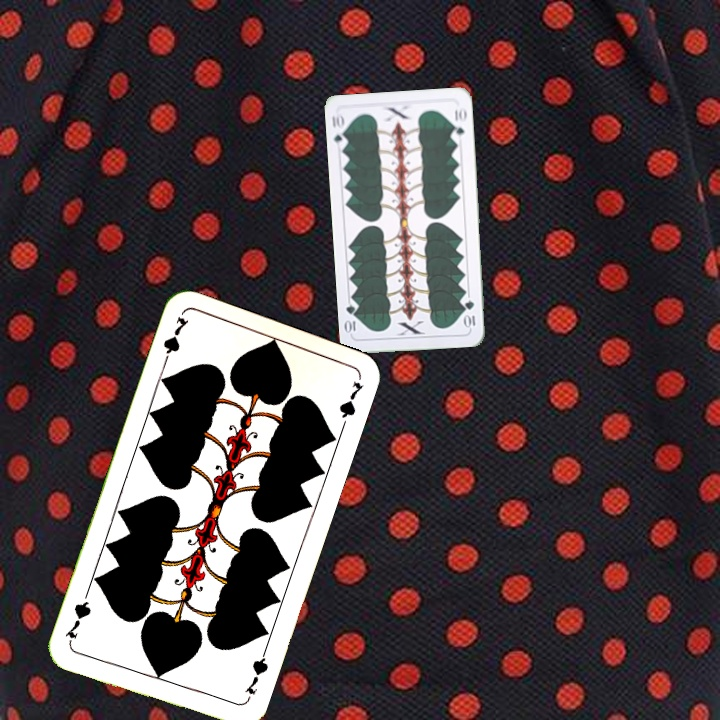G10: (328, 110, 349, 150), (461, 296, 478, 331)
G7: (158, 312, 192, 370), (241, 648, 271, 705)
